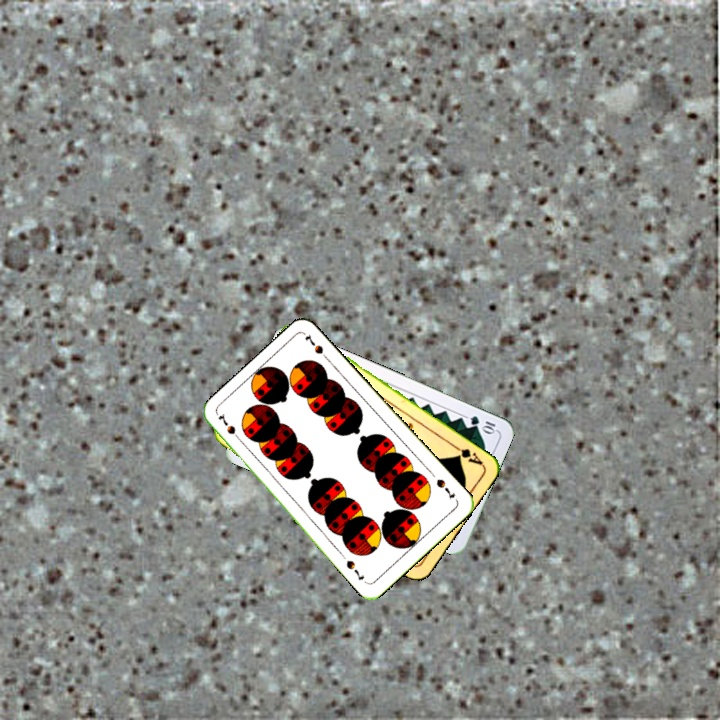G10: (466, 412, 499, 436)
GA: (449, 441, 486, 468)
S7: (214, 410, 245, 445), (432, 475, 458, 502)
